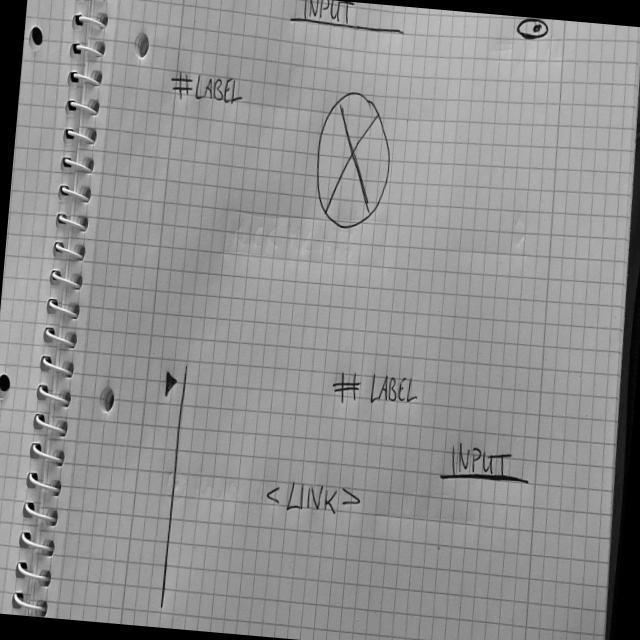image: (310, 88, 397, 235)
input: (437, 438, 534, 493), (288, 1, 409, 38)
label: (330, 365, 424, 412), (168, 67, 249, 110)
link: (263, 476, 365, 520)
toggle: (513, 17, 552, 46)
